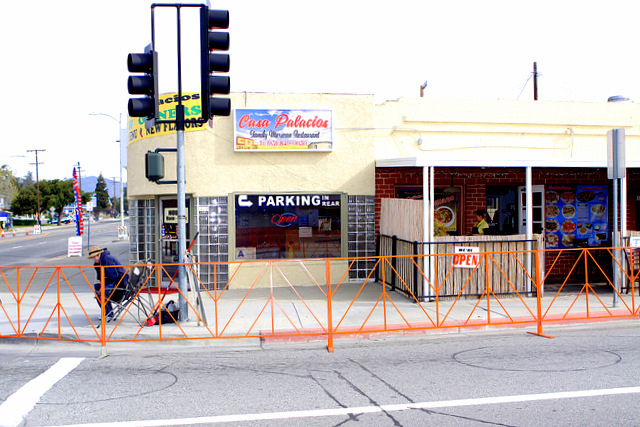Traffic Light: (200, 13, 235, 120), (126, 50, 156, 117)
